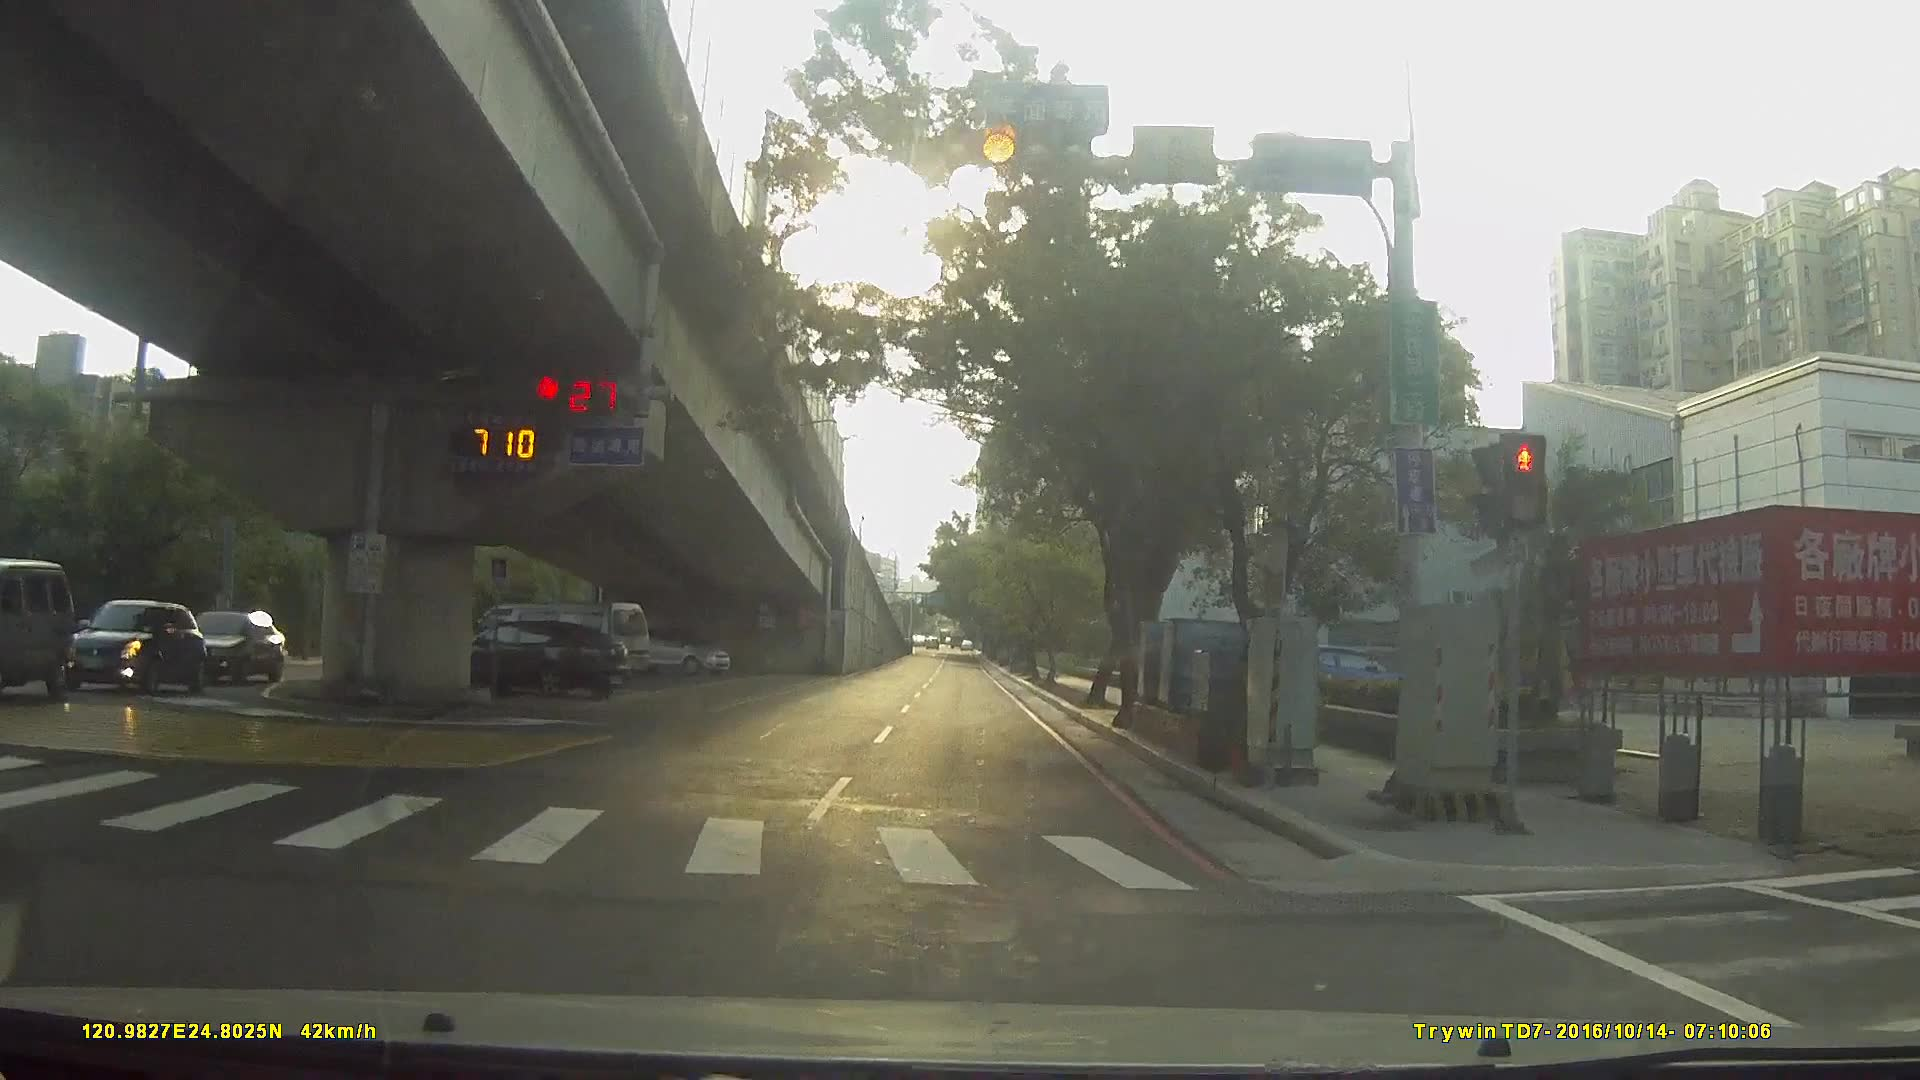vehicle: (458, 596, 646, 684), (430, 615, 622, 700), (51, 593, 211, 695), (1, 547, 82, 698), (162, 601, 295, 680), (617, 625, 729, 675)
